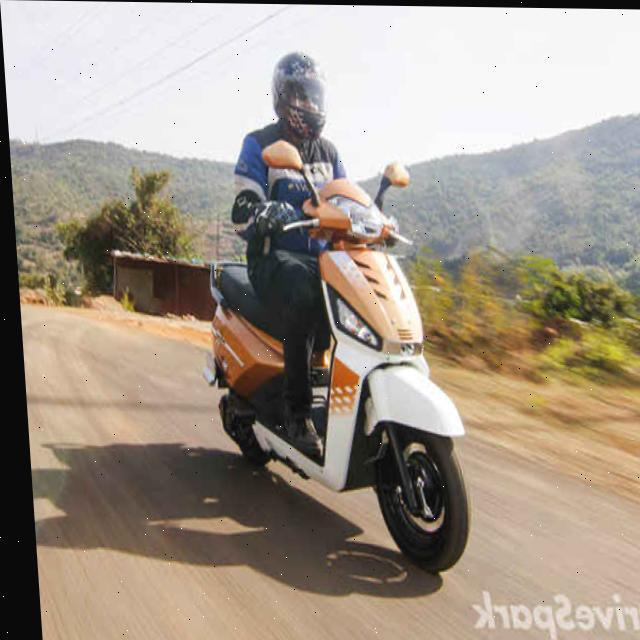Helmet: (265, 44, 336, 148)
